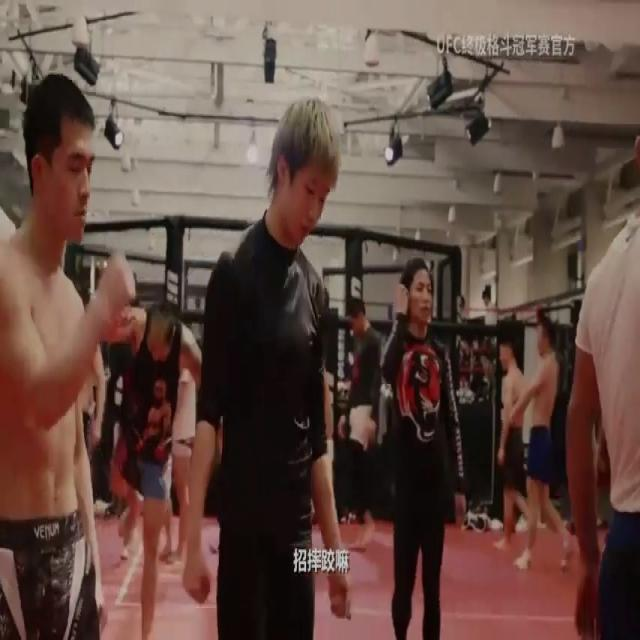non-fight: (178, 92, 352, 640), (0, 41, 142, 639), (375, 259, 463, 640)
